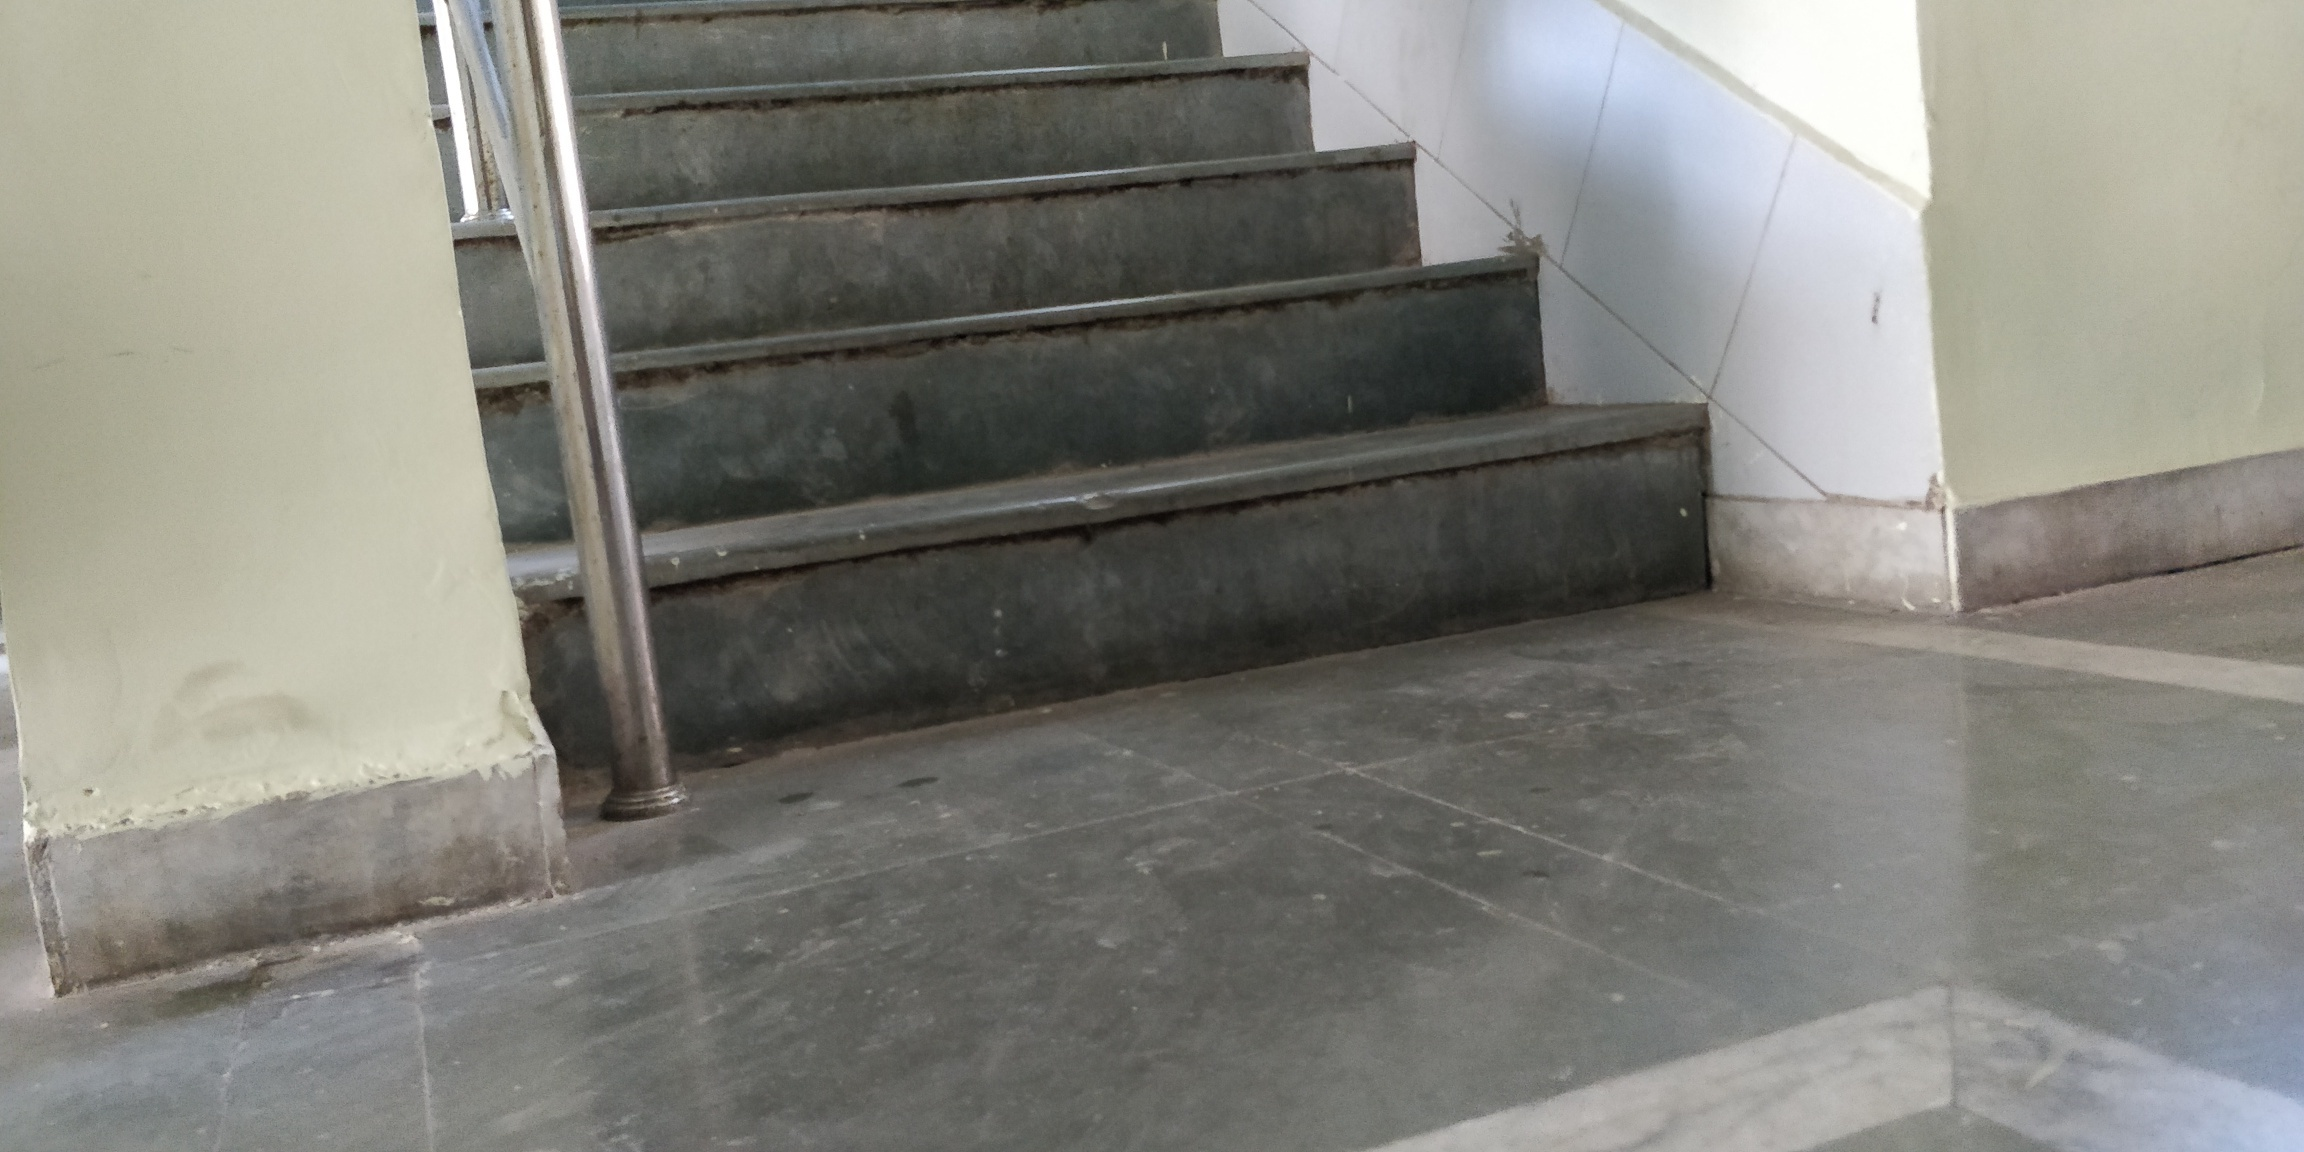stairs_up: (478, 6, 1749, 632)
